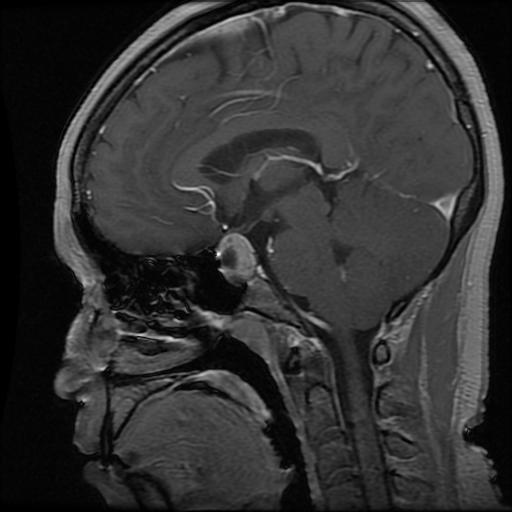Pituirity_tumour: (215, 233, 256, 281)
